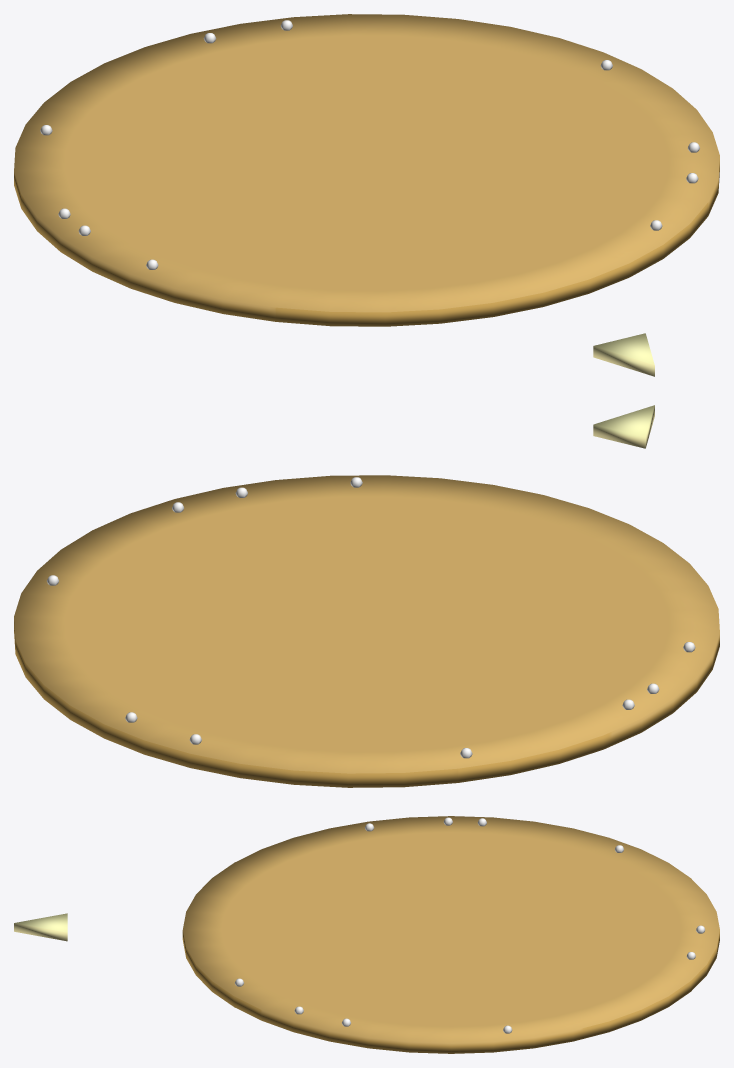
The model's file is star_ring_1.glb.
3 renders of one model, top to bottom at view 1: azimuth 30°, elevation 25°; view 2: azimuth 150°, elevation 25°; view 3: azimuth 270°, elevation 25°, orthographic. The views are drawn at different scales.
Parts seen in each view (by area): view 1: Ring; view 2: Ring; view 3: Ring.
Boxes of the visible parts, x1=… form: Ring: x1=14, y1=14, x2=719, y2=376; Ring: x1=14, y1=405, x2=719, y2=787; Ring: x1=14, y1=816, x2=719, y2=1053.
Size of the model in its own units: 1.12 by 0.04 by 1.47.
1 material, 1 textured.
